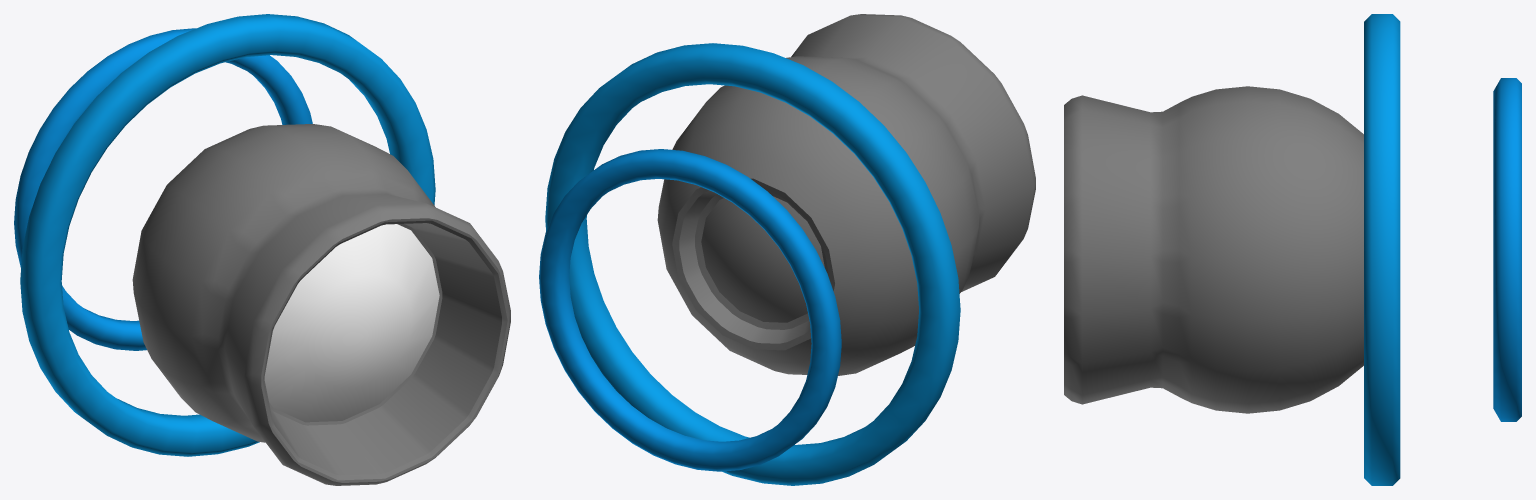
Rendered from Light_Box_01.fbx.
3 views of the same model, side by side, from view 1: azimuth 30°, elevation 25°; view 2: azimuth 150°, elevation 25°; view 3: azimuth 270°, elevation 25° (orthographic).
Visible parts, largest first — view 1: Lyskaster_Sphere, glodering_00_Torus, glodering_01_Torus.001; view 2: Lyskaster_Sphere, glodering_00_Torus, glodering_01_Torus.001; view 3: Lyskaster_Sphere, glodering_00_Torus, glodering_01_Torus.001.
Part boxes in pixels (x1,y1,x2,y2): Lyskaster_Sphere: (132, 124, 510, 485); glodering_00_Torus: (20, 14, 435, 456); glodering_01_Torus.001: (14, 28, 312, 350); Lyskaster_Sphere: (657, 14, 1035, 375); glodering_00_Torus: (545, 43, 960, 485); glodering_01_Torus.001: (539, 149, 841, 471); Lyskaster_Sphere: (1064, 86, 1363, 413); glodering_00_Torus: (1364, 14, 1400, 485); glodering_01_Torus.001: (1493, 78, 1521, 421).
Size of the model in its own units: 289 by 288 by 279.
